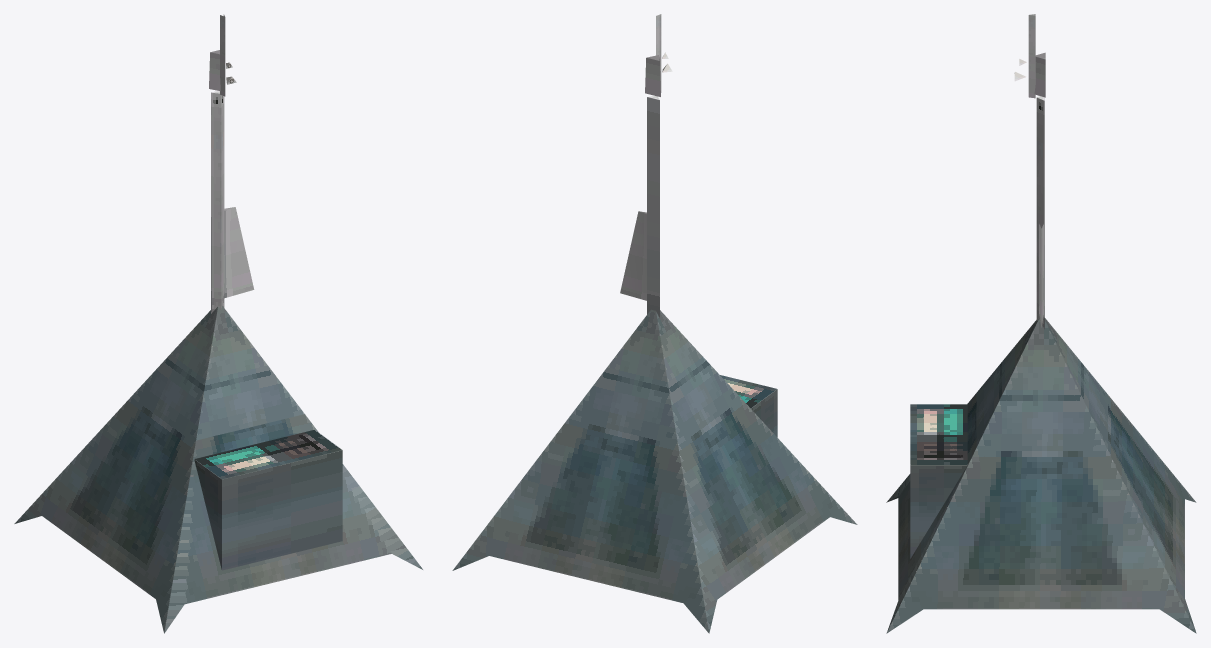
The model's file is eqp_tool_sensor_frequency_jammer_s2_l3.fbx.
3 renders of one model, left to right at view 1: azimuth 30°, elevation 25°; view 2: azimuth 150°, elevation 25°; view 3: azimuth 270°, elevation 25°, orthographic. The views are drawn at different scales.
Visible parts, largest first — view 1: mesh_node; view 2: mesh_node; view 3: mesh_node.
Part boxes in pixels (x1,y1,x2,y2): mesh_node: (14,14,422,633); mesh_node: (452,14,857,633); mesh_node: (886,14,1196,633).
Bounding box in the file's own units: 0.4059 × 0.7988 × 0.4062.
1 material, 1 textured.
